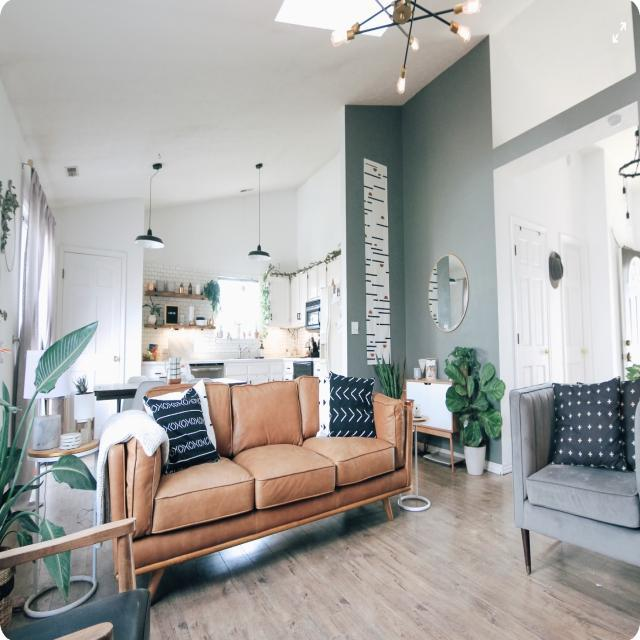lamp: (316, 0, 486, 97), (135, 157, 167, 255), (249, 154, 271, 272)
pillow: (548, 373, 631, 475), (145, 391, 223, 463), (324, 372, 381, 444)
potted plant: (446, 345, 504, 480)
sofa: (100, 363, 418, 622)
